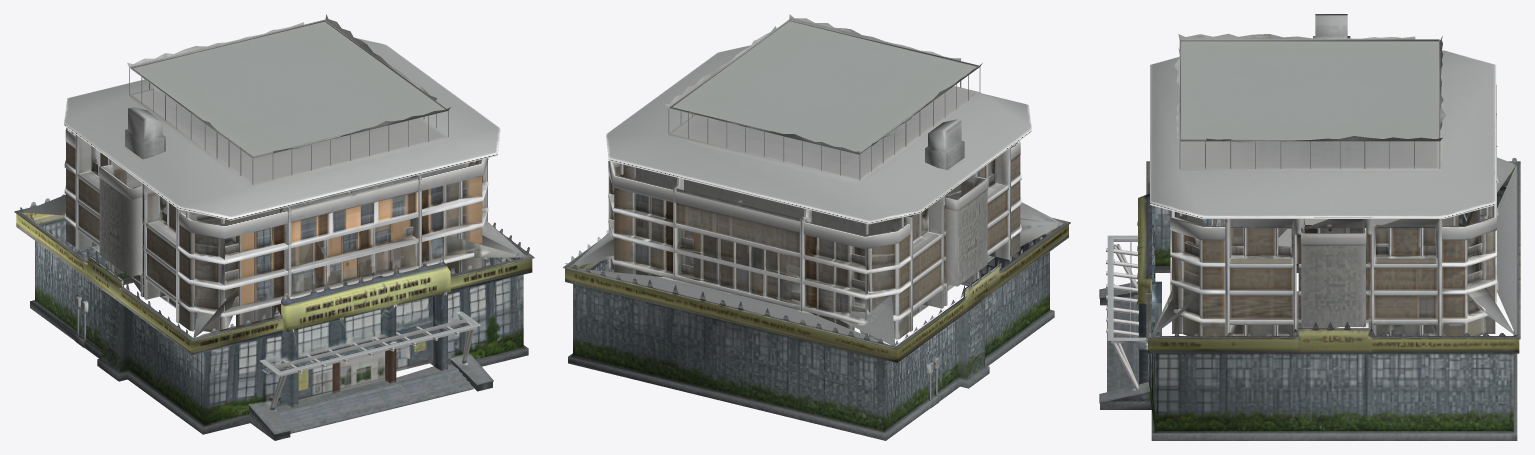
The model's file is building.glb.
3 views of the same model, side by side, from view 1: azimuth 30°, elevation 25°; view 2: azimuth 150°, elevation 25°; view 3: azimuth 270°, elevation 25° (orthographic). The views are drawn at different scales.
Visible parts, largest first — view 1: tripo_node_cc06a904-7a83-48fe-adcd-7bffd5ac7d67; view 2: tripo_node_cc06a904-7a83-48fe-adcd-7bffd5ac7d67; view 3: tripo_node_cc06a904-7a83-48fe-adcd-7bffd5ac7d67.
Boxes of the visible parts, box(x1,y1,x2,y2) form: tripo_node_cc06a904-7a83-48fe-adcd-7bffd5ac7d67: box(14, 14, 534, 440); tripo_node_cc06a904-7a83-48fe-adcd-7bffd5ac7d67: box(563, 14, 1070, 440); tripo_node_cc06a904-7a83-48fe-adcd-7bffd5ac7d67: box(1099, 14, 1520, 440).
Bounding box in the file's own units: 0.9995 × 0.7095 × 0.9995.
Materials: 1 (1 with a texture image).
